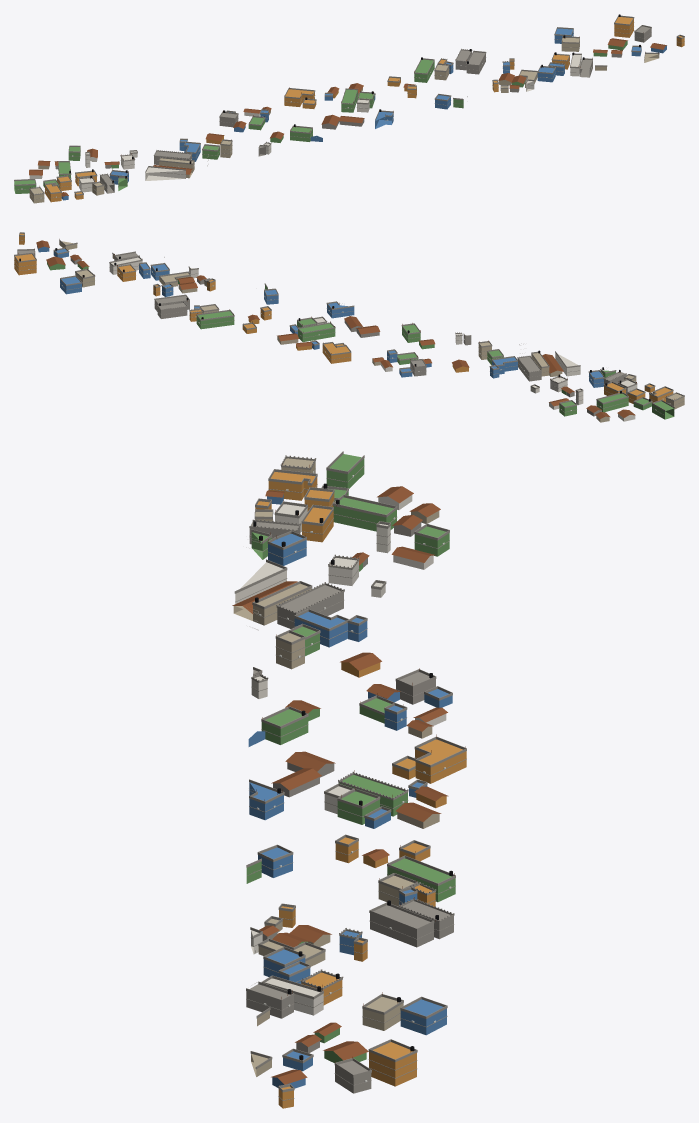
Rendered from zone_t-4_3.glb.
3 views of the same model, one above another, from view 1: azimuth 30°, elevation 25°; view 2: azimuth 150°, elevation 25°; view 3: azimuth 270°, elevation 25° (orthographic). The views are drawn at different scales.
Parts seen in each view (by area): view 1: parapet_t-4_3, bld_peinture_vert_t-4_3-col, bld_peinture_ocre_t-4_3-col, bld_beton_t-4_3-col, bld_peinture_bleu_t-4_3-col, toit_tole_t-4_3, bld_peinture_ecaillee_t-4_3-col, bld_peinture_blanc_t-4_3-col, bandeau_t-4_3; view 2: parapet_t-4_3, bld_peinture_vert_t-4_3-col, bld_peinture_ocre_t-4_3-col, bld_peinture_bleu_t-4_3-col, toit_tole_t-4_3, bld_beton_t-4_3-col, bld_peinture_ecaillee_t-4_3-col, bld_peinture_blanc_t-4_3-col, bandeau_t-4_3; view 3: parapet_t-4_3, bld_peinture_vert_t-4_3-col, bld_peinture_ocre_t-4_3-col, bld_peinture_bleu_t-4_3-col, bld_beton_t-4_3-col, toit_tole_t-4_3, bld_peinture_ecaillee_t-4_3-col, bld_peinture_blanc_t-4_3-col, bandeau_t-4_3.
Boxes of the visible parts, x1,y1,x2,y2 form: parapet_t-4_3: (14,15,684,195); bld_peinture_vert_t-4_3-col: (14,41,627,193); bld_peinture_ocre_t-4_3-col: (45,17,684,202); bld_beton_t-4_3-col: (55,26,651,193); bld_peinture_bleu_t-4_3-col: (61,28,666,200); toit_tole_t-4_3: (29,38,666,196); bld_peinture_ecaillee_t-4_3-col: (29,38,659,203); bld_peinture_blanc_t-4_3-col: (29,54,581,192); bandeau_t-4_3: (14,22,684,199); parapet_t-4_3: (14,232,684,411); bld_peinture_vert_t-4_3-col: (47,262,674,419); bld_peinture_ocre_t-4_3-col: (14,233,673,403); bld_peinture_bleu_t-4_3-col: (37,246,603,387); toit_tole_t-4_3: (36,240,635,418); bld_beton_t-4_3-col: (17,250,626,416); bld_peinture_ecaillee_t-4_3-col: (59,241,684,422); bld_peinture_blanc_t-4_3-col: (109,257,637,421); bandeau_t-4_3: (14,238,683,415); parapet_t-4_3: (234,451,466,1092); bld_peinture_vert_t-4_3-col: (246,454,455,1062); bld_peinture_ocre_t-4_3-col: (255,472,466,1108); bld_peinture_bleu_t-4_3-col: (248,494,452,1088); bld_beton_t-4_3-col: (246,522,453,1093); toit_tole_t-4_3: (232,486,448,1084); bld_peinture_ecaillee_t-4_3-col: (233,458,439,1076); bld_peinture_blanc_t-4_3-col: (235,495,446,1015); bandeau_t-4_3: (235,465,466,1100).
Bounding box in the file's own units: 503 × 11 × 78.29.
